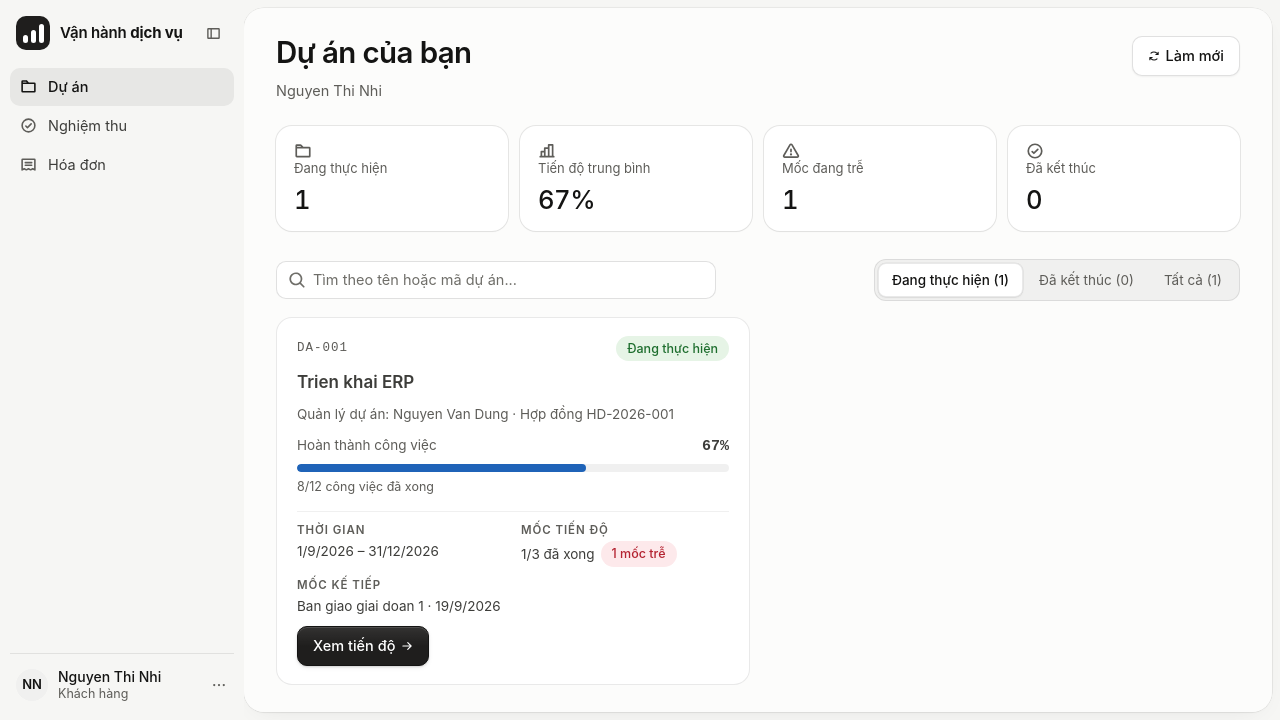
Scenario: PortalApp — điều hướng cổng bằng đường dẫn #/portal › đăng nhập vào danh sách dự án, mở chi tiết cập nhật đường dẫn, quay lại được
Click the button with test id "portal-project-open-12" at (363, 646), box [297, 626, 429, 666]
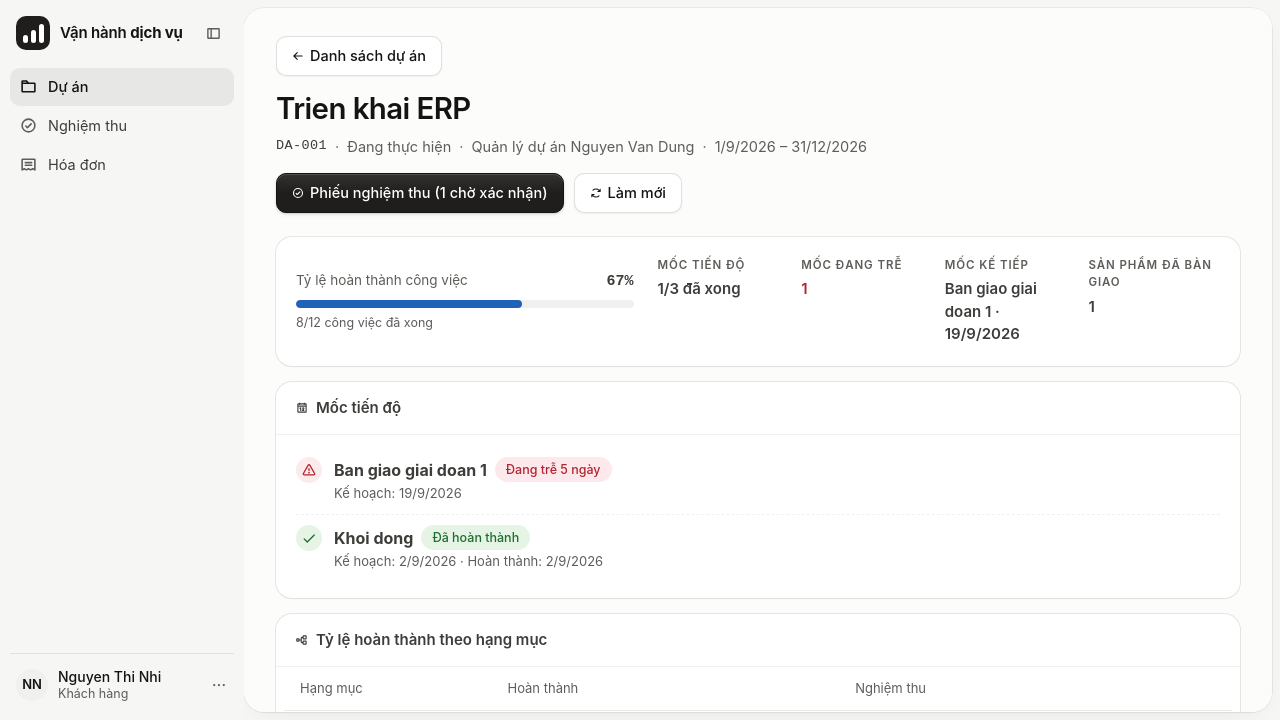
Check: the element with test id "portal-project-detail" is shown
Click the button with test id "portal-detail-back" at (359, 56), box [276, 36, 442, 76]
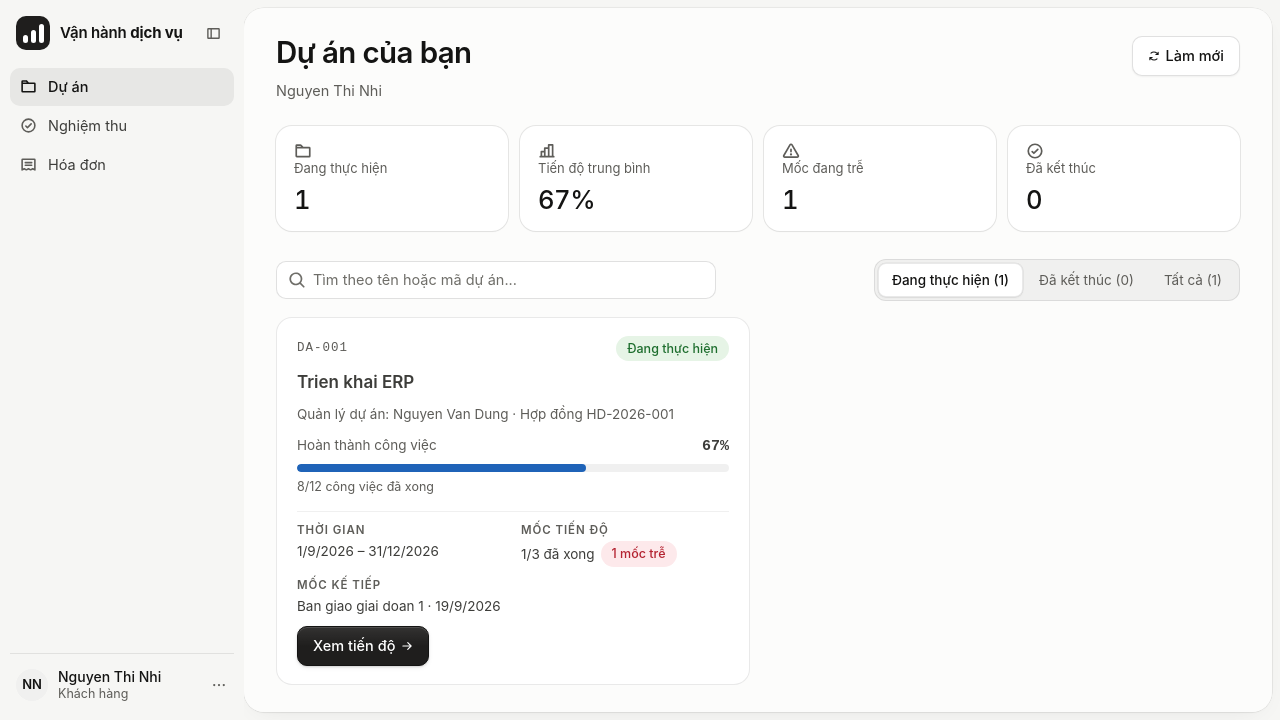
Check: the element with test id "portal-project-card-12" is shown, box [276, 317, 750, 685]
